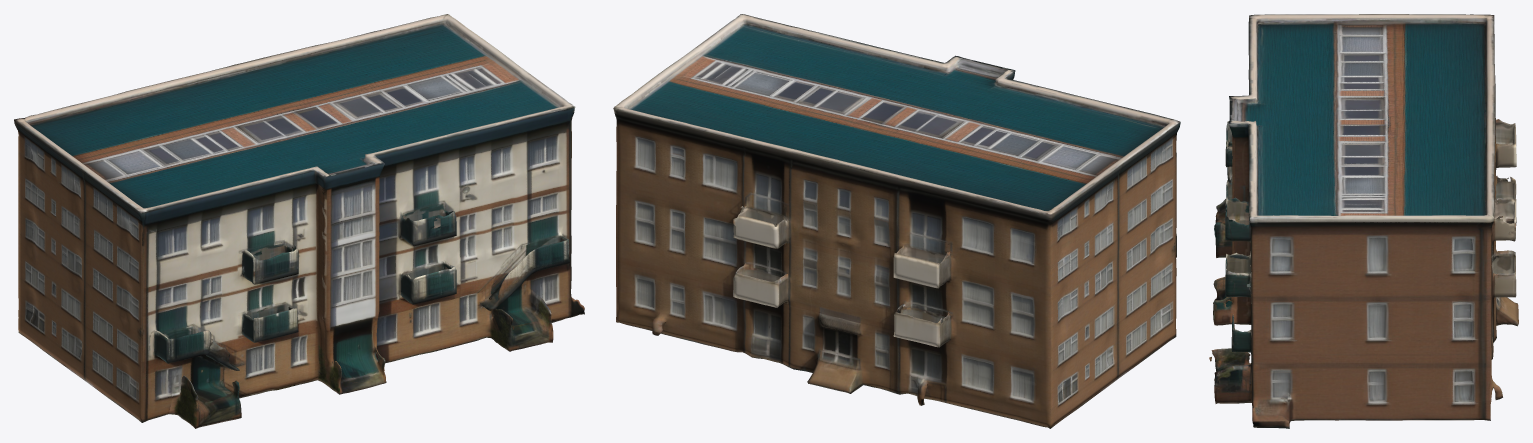
File: flats.glb
3 renders of one model, left to right at view 1: azimuth 30°, elevation 25°; view 2: azimuth 150°, elevation 25°; view 3: azimuth 270°, elevation 25°, orthographic. The views are drawn at different scales.
Size of the model in its own units: 2 by 0.9257 by 1.25.
Materials: 1 (1 with a texture image).
